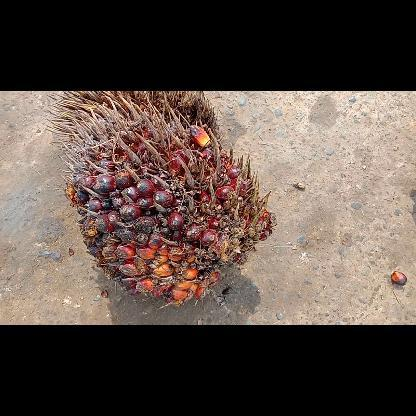Janjang kosong: (46, 90, 218, 150)
TBS masak: (58, 94, 276, 310)
